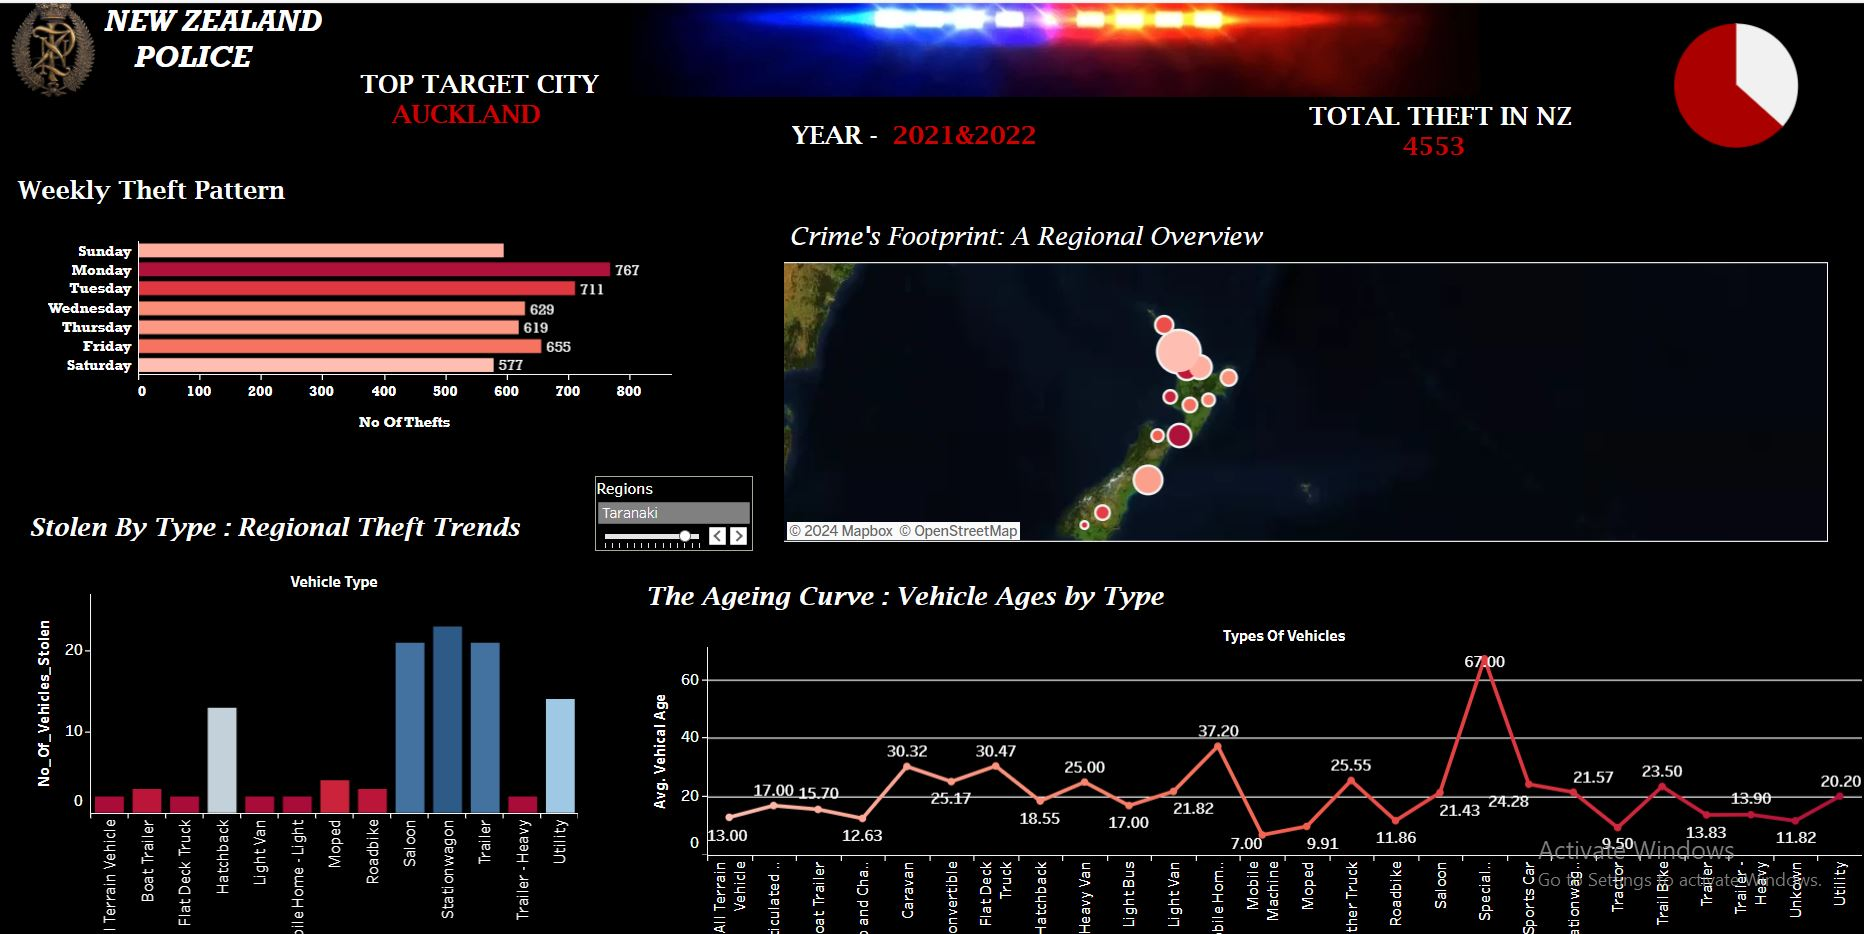

The page's visual inventory and layout, read from the dashboard file:
{"tool":"tableau","page":{"name":"Dashboard 1","canvas":[1000,1000],"units":"permille","ordinal":0},"visuals":[{"type":"image","param":"Image/emergency-police-car-siren-flashing-260nw-[phone redacted].jpg","box":[193.2,3.7,743.2,122.2]},{"type":"image","param":"Image/NEW_Zpolice-removebg-preview.png","box":[1.1,5.6,97.4,136.1]},{"type":"text","box":[55.8,17.6,162.6,100.9]},{"type":"worksheet","title":"Sheet 2","mark":"Pie","box":[866.1,31,124.1,166.1]},{"type":"text","box":[192.9,68.2,160.9,119]},{"type":"text","box":[700.2,107.8,180.6,104.1]},{"type":"text","box":[423.8,132.6,153,63.2]},{"type":"worksheet","title":"Sheet 1","mark":"Bar","rows":["WeekofDay"],"cols":["NoOfThefts"],"box":[7.4,196.3,352.1,269.4]},{"type":"worksheet","title":"Sheet 3","mark":"Automatic","box":[419.5,242.6,557.9,328.7]},{"type":"filter","title":"Sheet 5","param":"[federated.1cihosj06vfddn1b58xce1dr6z37].[none:region (Sheet5):nk]","box":[318.4,504.6,84.2,75]},{"type":"worksheet","title":"Sheet 5","mark":"Automatic","rows":["NoOfThefts (Sheet5)"],"cols":["vehicle_type"],"box":[13.2,518.5,296.3,472.2]},{"type":"worksheet","title":"Sheet 4","mark":"Line","rows":["VehicalAvgAge"],"cols":["vehicle_type (Sheet4)"],"box":[342.6,602.8,652.6,381.5]}]}

Visuals, with their boxes on the dashboard's canvas, which has no fixed pixel size, in thousandths of its width and height (x1, y1, x2, y2). These are canvas units, not pixel positions in the 1864x934 screenshot, which may show the page scaled, cropped or inside an application window:
image: {"left": 193, "top": 4, "right": 936, "bottom": 126}
image: {"left": 1, "top": 6, "right": 98, "bottom": 142}
text: {"left": 56, "top": 18, "right": 218, "bottom": 118}
"Sheet 2" worksheet (Pie marks): {"left": 866, "top": 31, "right": 990, "bottom": 197}
text: {"left": 193, "top": 68, "right": 354, "bottom": 187}
text: {"left": 700, "top": 108, "right": 881, "bottom": 212}
text: {"left": 424, "top": 133, "right": 577, "bottom": 196}
"Sheet 1" worksheet (Bar marks): {"left": 7, "top": 196, "right": 360, "bottom": 466}
"Sheet 3" worksheet: {"left": 420, "top": 243, "right": 977, "bottom": 571}
"Sheet 5" filter: {"left": 318, "top": 505, "right": 403, "bottom": 580}
"Sheet 5" worksheet: {"left": 13, "top": 518, "right": 310, "bottom": 991}
"Sheet 4" worksheet (Line marks): {"left": 343, "top": 603, "right": 995, "bottom": 984}
